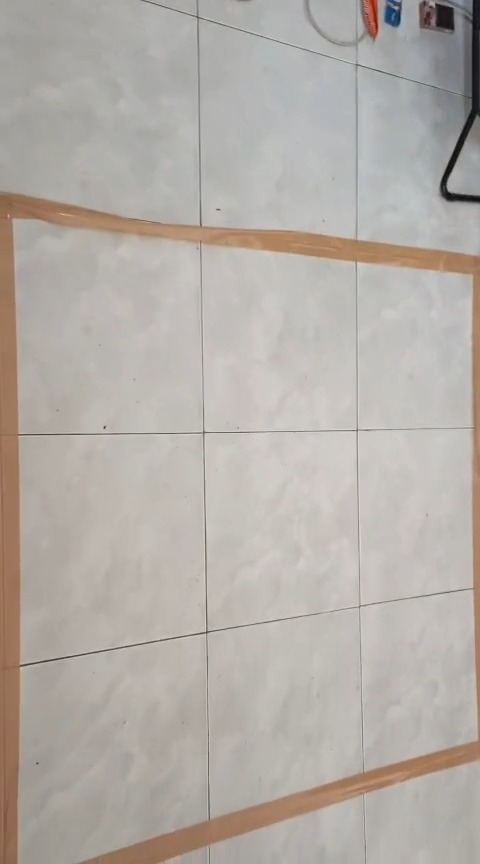floor marking: (0, 193, 479, 863), (90, 733, 479, 863)
